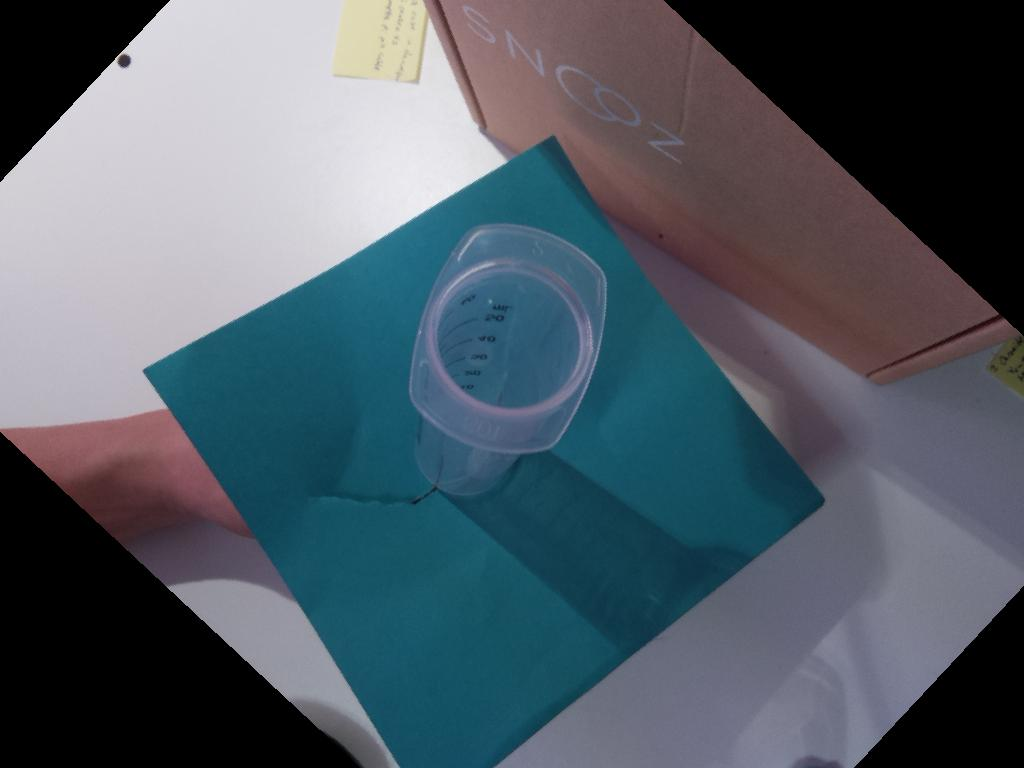clean: (409, 223, 607, 455)
